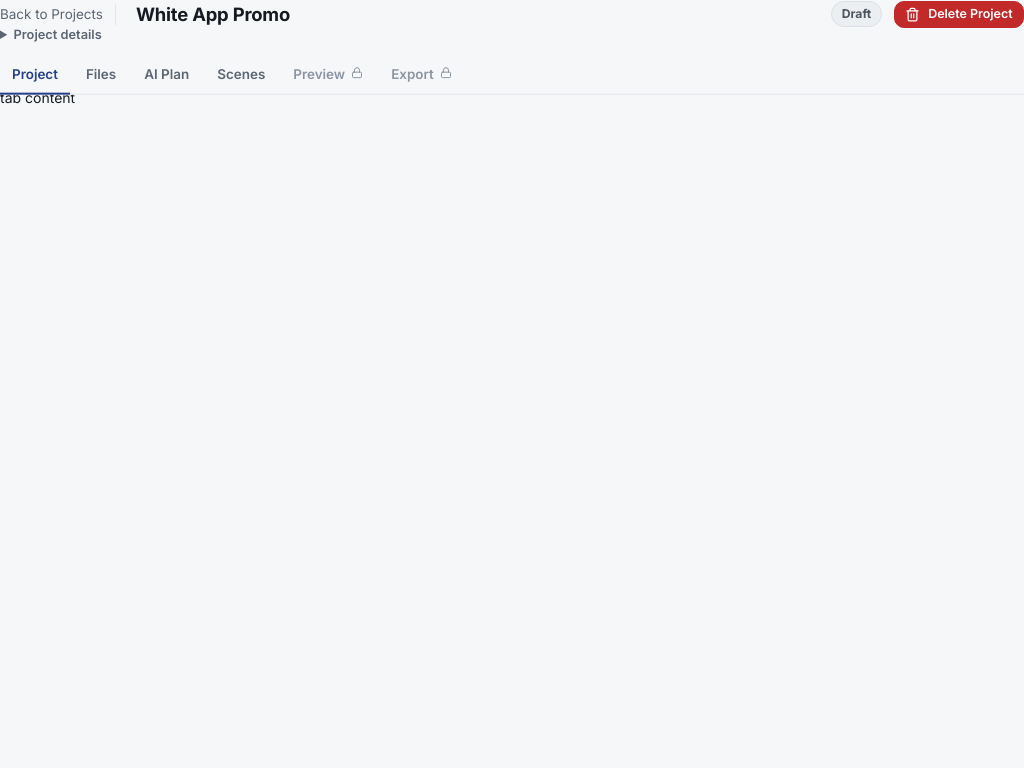
ProjectWorkspaceShell - Delete Project › shows a typed, actionable error and never navigates away when the API refuses (e.g. an active job)
The image size is (1024, 768).
What coordinates should you click on to do the following:
click the button "Delete Project"
I would click on:
 (959, 14)
Its box is [894,1,1023,28].
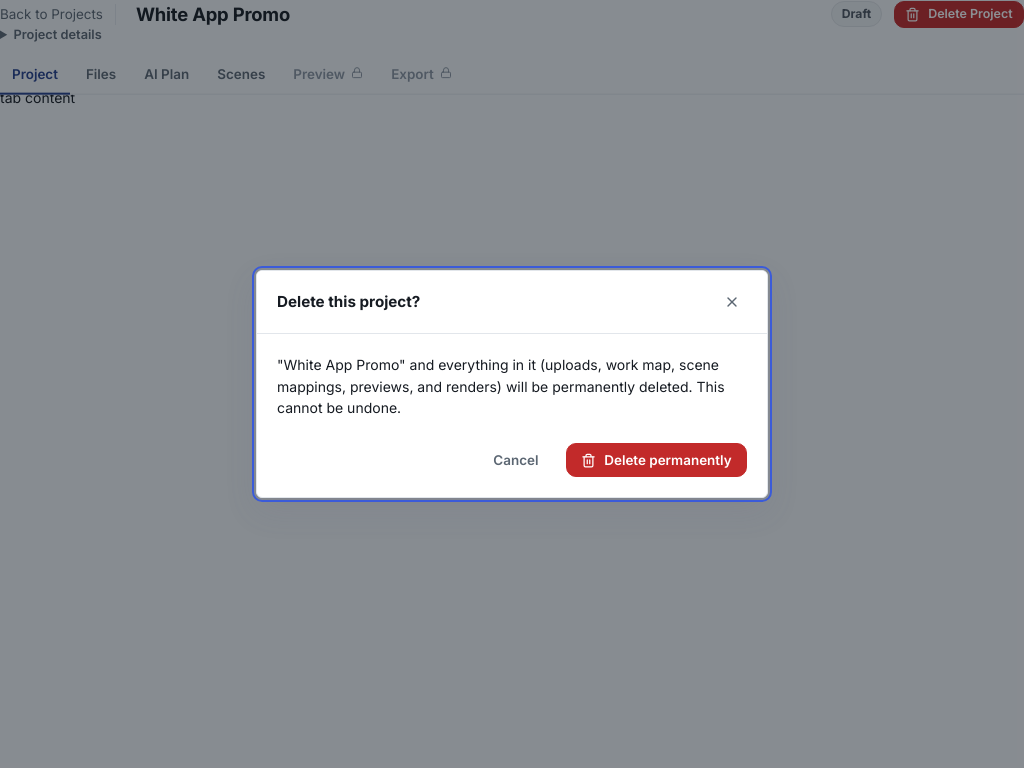
Check: the text "Delete this project?" is shown, box [277,290,420,314]
What coordinates should you click on to do the following:
click the button "Delete permanently"
I would click on:
 (656, 460)
Its box is [566,443,747,477].
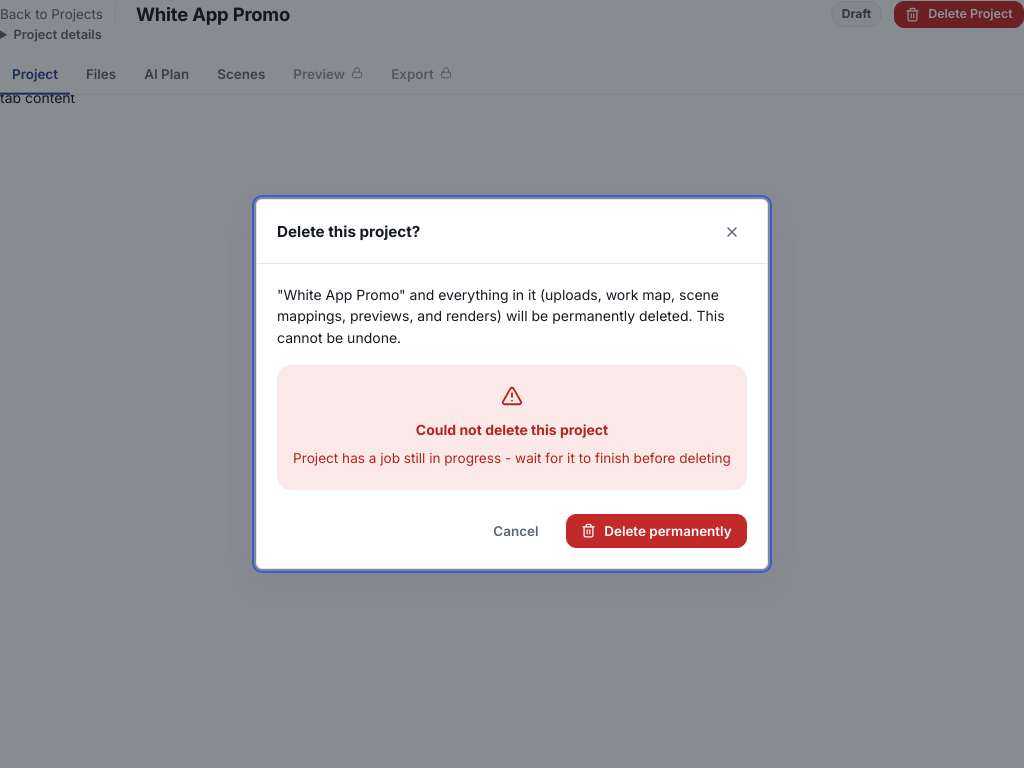
Check: the text "Project has a job still in progress - wait for it to finish before deleting" is shown, box [293,448,731,470]
